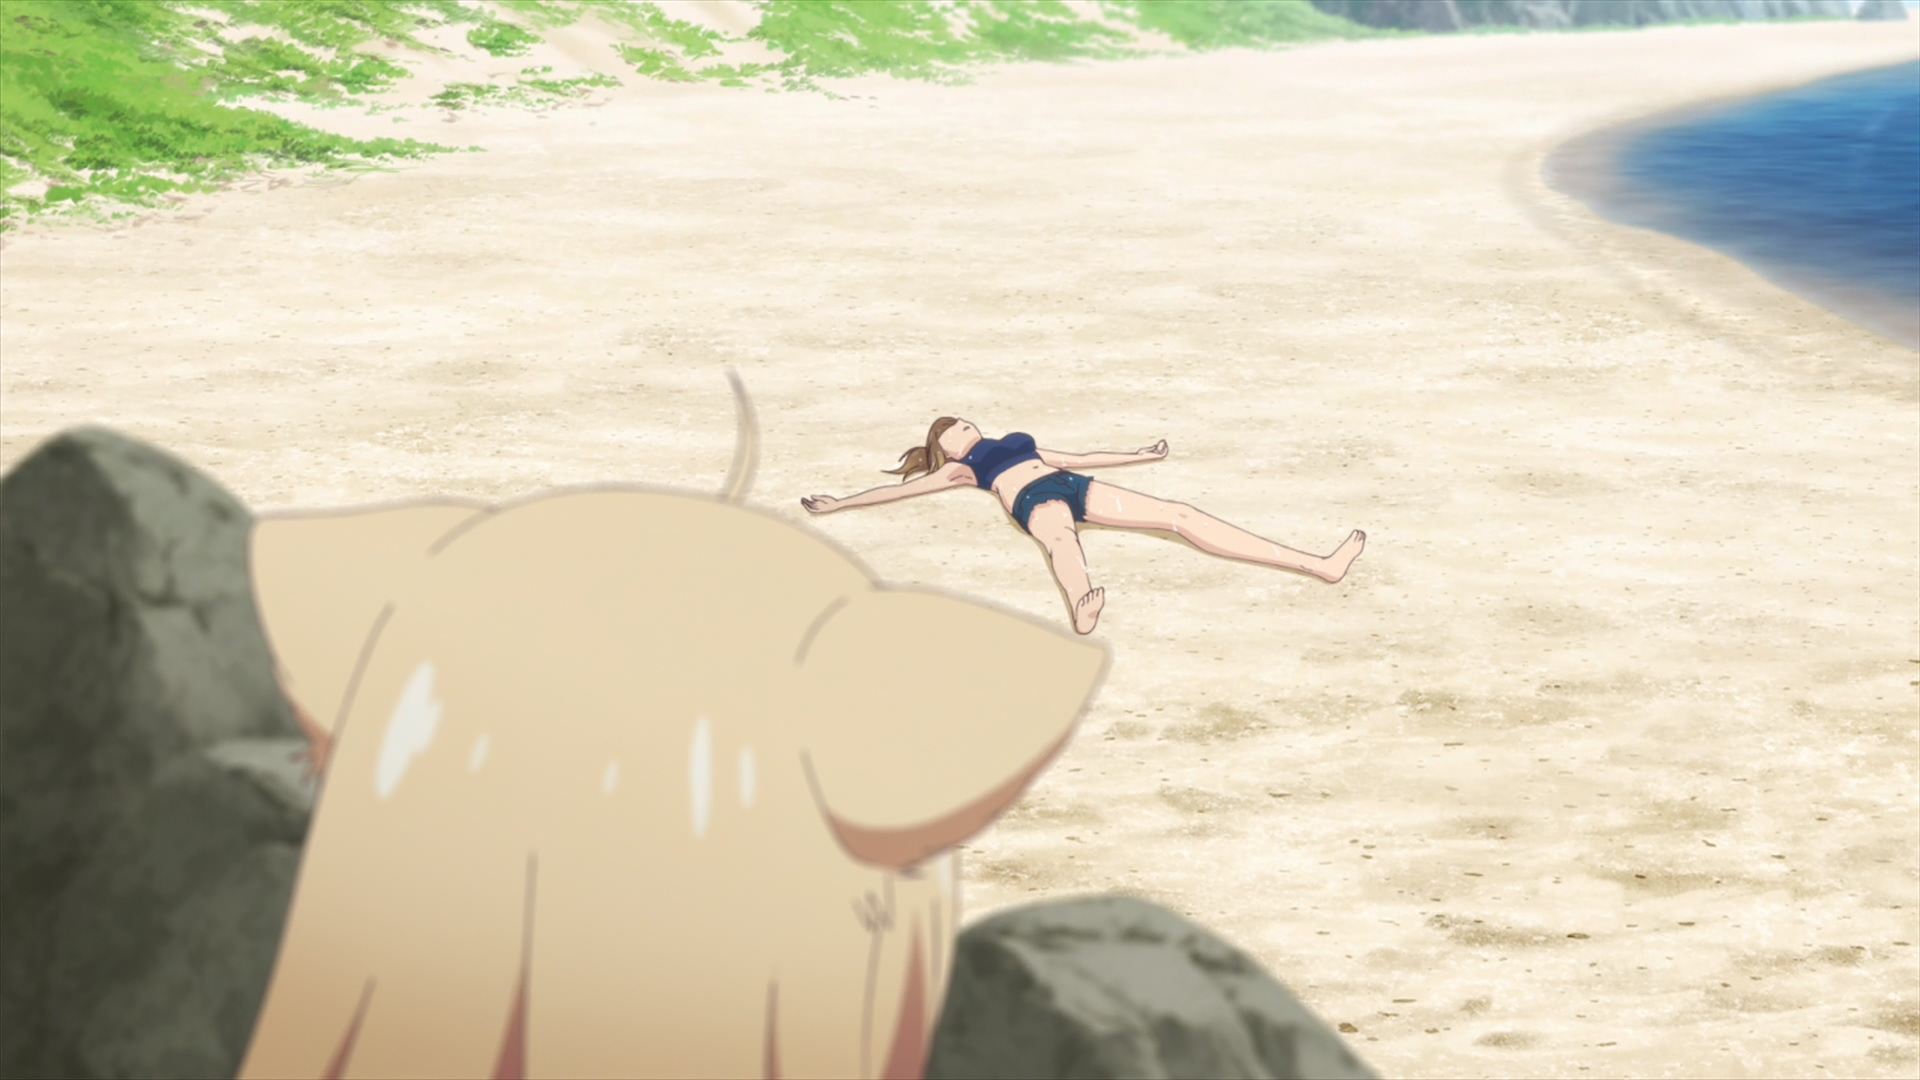其他: (800, 415, 1364, 634)
柚: (233, 371, 1116, 1080)
